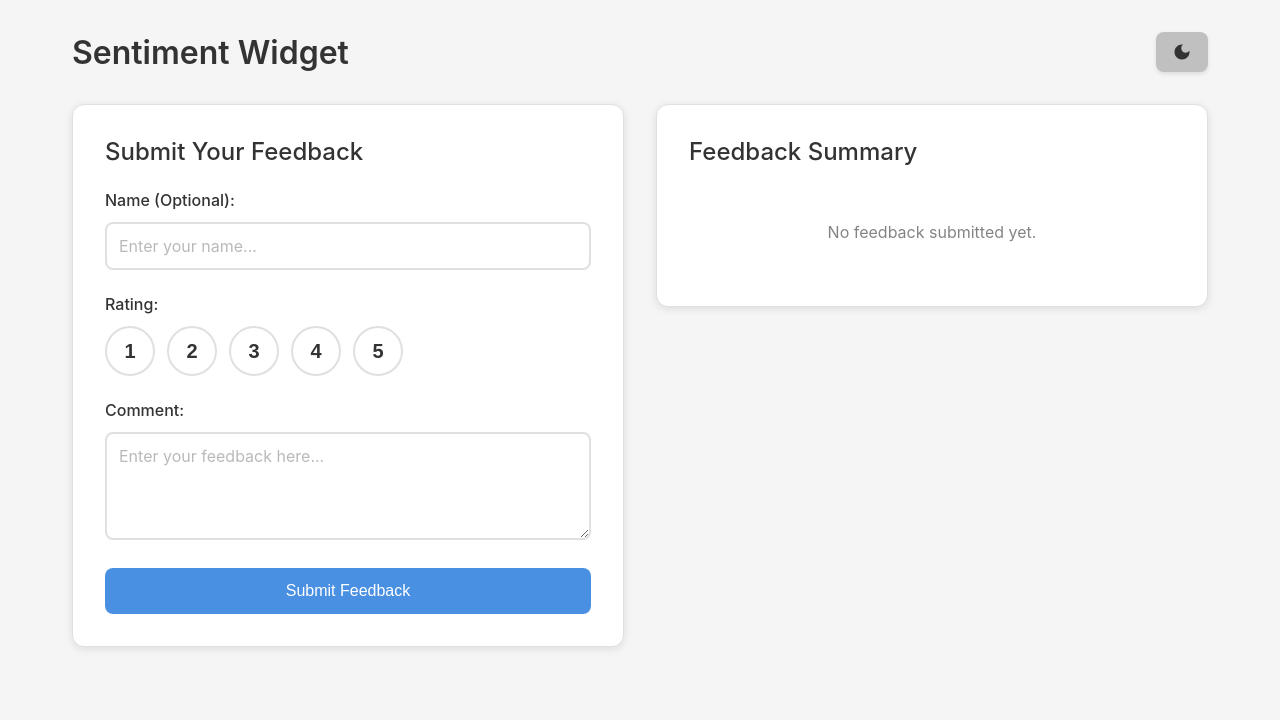
App Integration Tests › disables form during submission
The width and height of the screenshot is (1280, 720).
Select rating and submit
What coordinates should you click on to do the following:
click the button named "Rating 4"
I would click on:
 (316, 351)
Its box is [291,326,341,376].
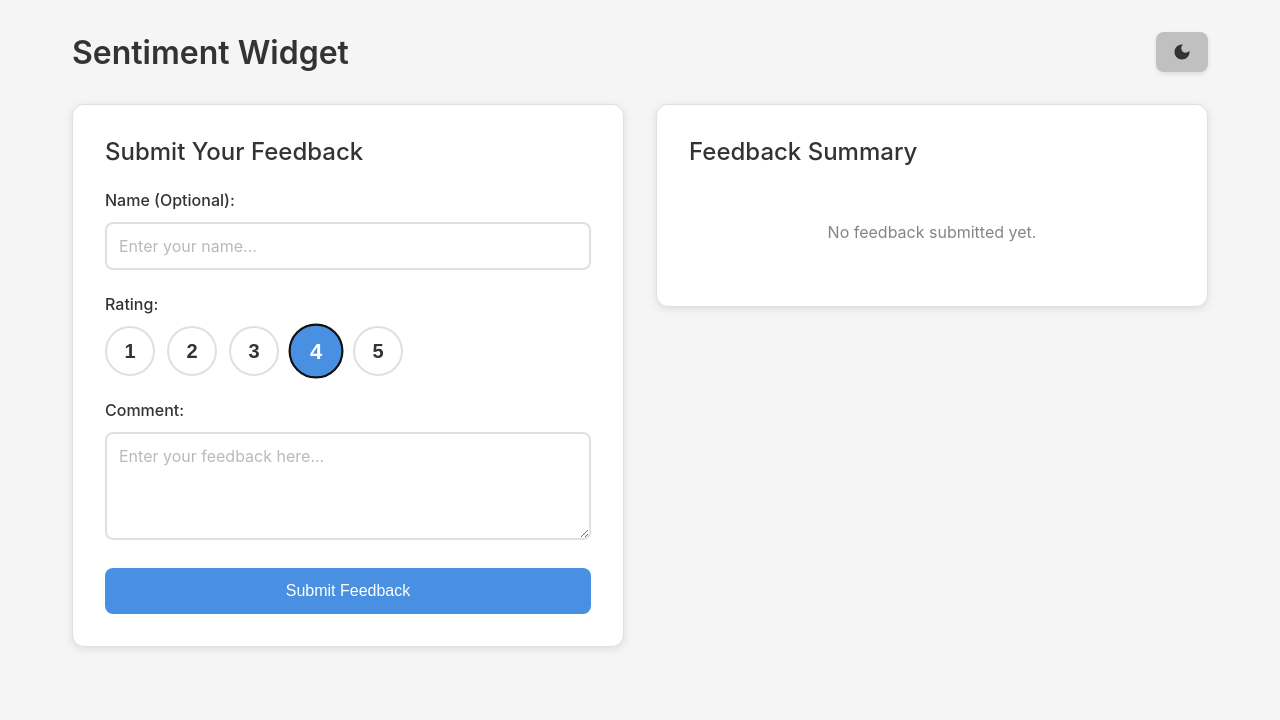
What coordinates should you click on to do the following:
click the button "Submit Feedback"
I would click on:
 (348, 591)
Its box is [105,568,591,614].
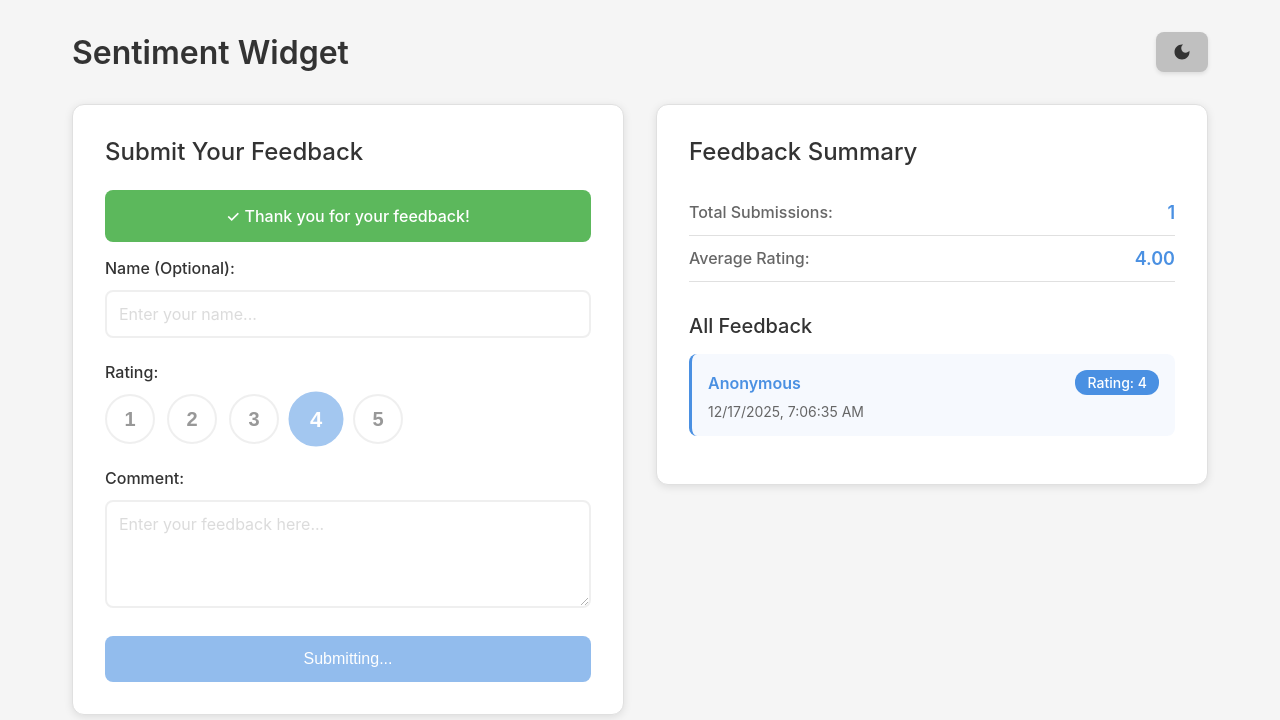
Expected: the button "Submitting..." is shown, [105,636,591,682]
Expected: the button named "Rating 1" is disabled, [105,394,155,444]
Expected: the text box with placeholder "Enter your feedback here..." is disabled, [105,500,591,608]
